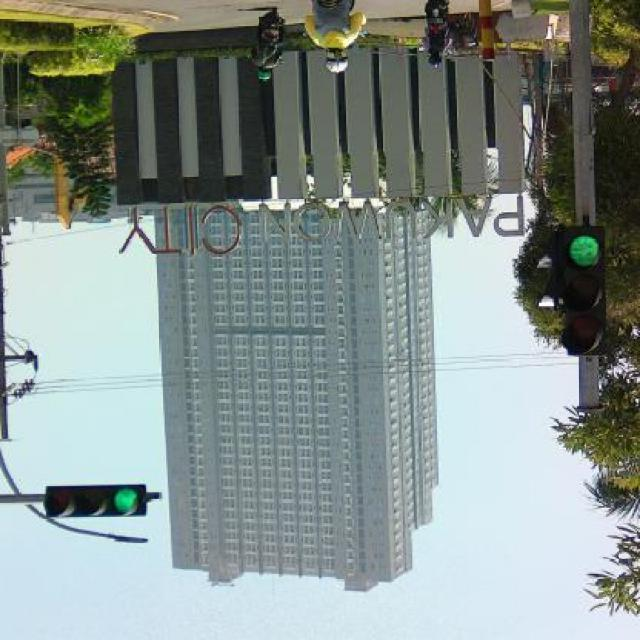green_light: (549, 224, 603, 352), (42, 482, 158, 515)
